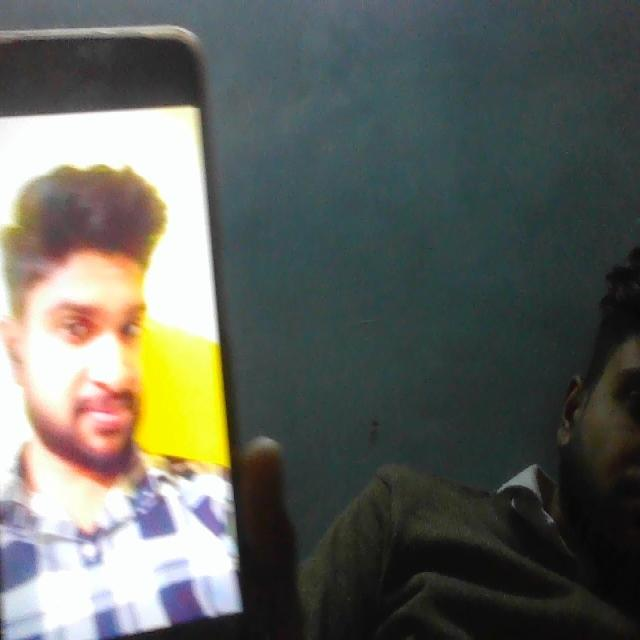fake: (0, 153, 176, 486)
